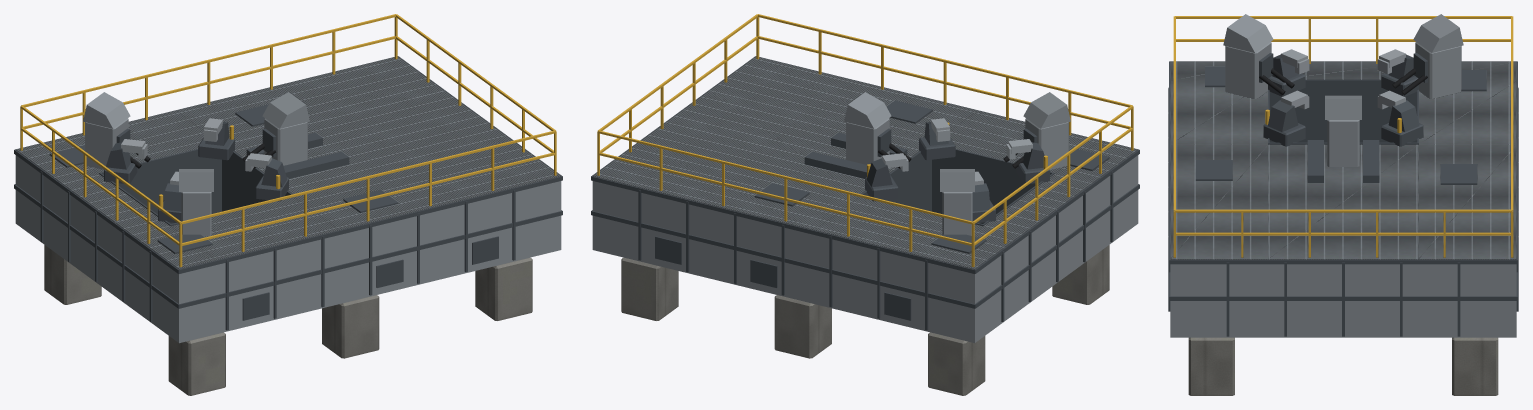
The model's file is mlp_saturn.glb.
3 renders of one model, left to right at view 1: azimuth 30°, elevation 25°; view 2: azimuth 150°, elevation 25°; view 3: azimuth 270°, elevation 25°, orthographic. The views are drawn at different scales.
Visible parts, largest first — view 1: mlp_saturn, pedestals, tsm, holddown; view 2: mlp_saturn, pedestals, tsm, holddown; view 3: mlp_saturn, tsm, holddown, pedestals.
Part boxes in pixels (bbox=[...]): mlp_saturn: bbox=[14, 14, 562, 343]; pedestals: bbox=[44, 245, 532, 395]; tsm: bbox=[83, 92, 309, 236]; holddown: bbox=[104, 118, 288, 222]; mlp_saturn: bbox=[591, 14, 1139, 343]; pedestals: bbox=[621, 245, 1109, 395]; tsm: bbox=[844, 92, 1070, 235]; holddown: bbox=[865, 118, 1049, 222]; mlp_saturn: bbox=[1168, 16, 1518, 337]; tsm: bbox=[1223, 14, 1463, 166]; holddown: bbox=[1263, 49, 1423, 146]; pedestals: bbox=[1188, 337, 1498, 395].
Bounding box in the file's own units: 10.22 × 5.07 × 7.59.
7 materials, 2 textured.
